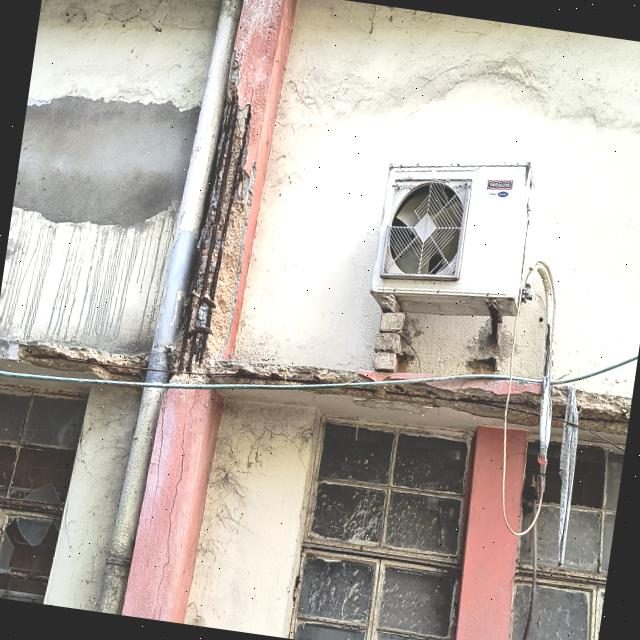spalling: (166, 50, 512, 418), (18, 341, 150, 382), (576, 389, 632, 439), (508, 376, 542, 427)
